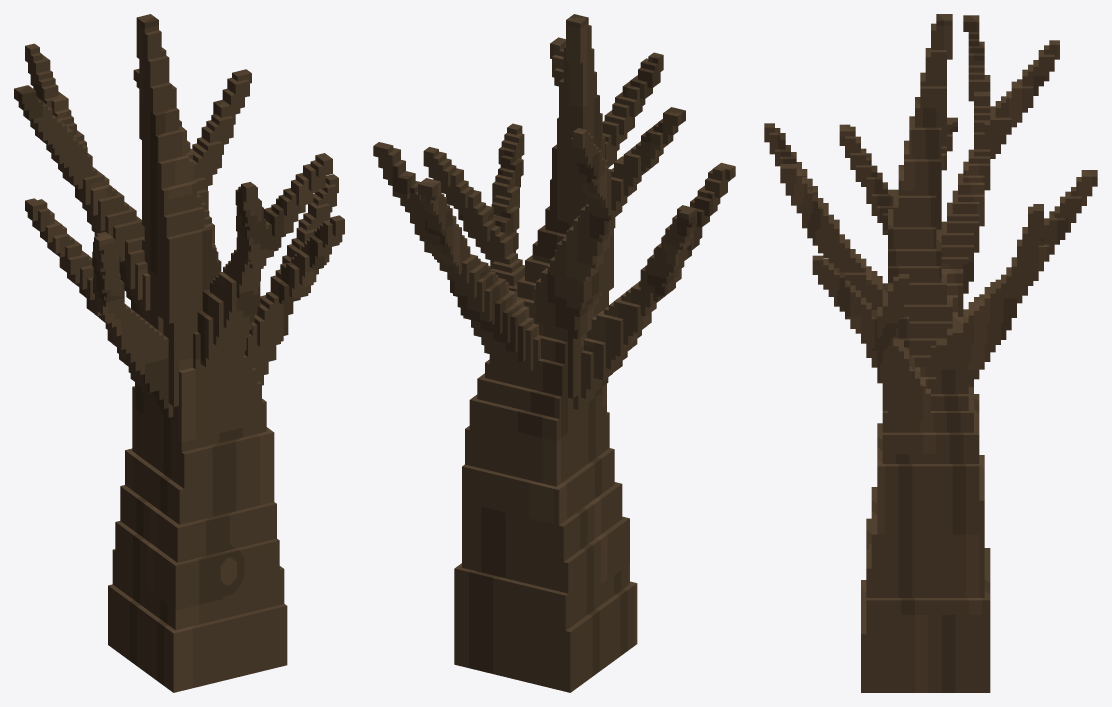
The model's file is oak_mature_winter_2.glb.
3 views of the same model, side by side, from view 1: azimuth 30°, elevation 25°; view 2: azimuth 150°, elevation 25°; view 3: azimuth 270°, elevation 25° (orthographic). The views are drawn at different scales.
Visible parts, largest first — view 1: VoxelVisual; view 2: VoxelVisual; view 3: VoxelVisual.
Boxes of the visible parts, x1=… form: VoxelVisual: x1=14, y1=14, x2=344, y2=692; VoxelVisual: x1=373, y1=14, x2=735, y2=692; VoxelVisual: x1=764, y1=14, x2=1097, y2=692.
Size of what is drawn, in the model's own units: 7.5 by 16.12 by 7.75.
